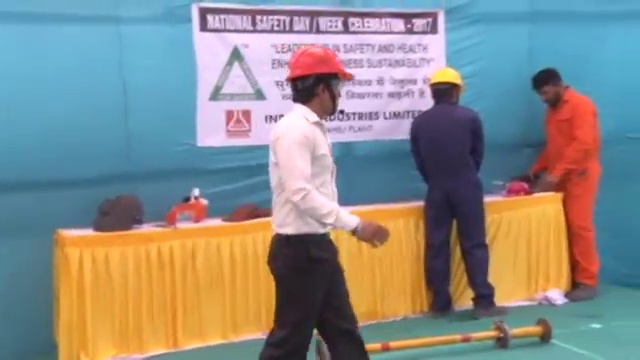helmet: (285, 44, 355, 82), (426, 65, 465, 89)
helmet_off: (531, 65, 571, 110)
helmet_on: (281, 41, 356, 127), (424, 62, 467, 108)
person: (266, 41, 391, 360), (409, 62, 510, 317), (526, 64, 602, 302)
